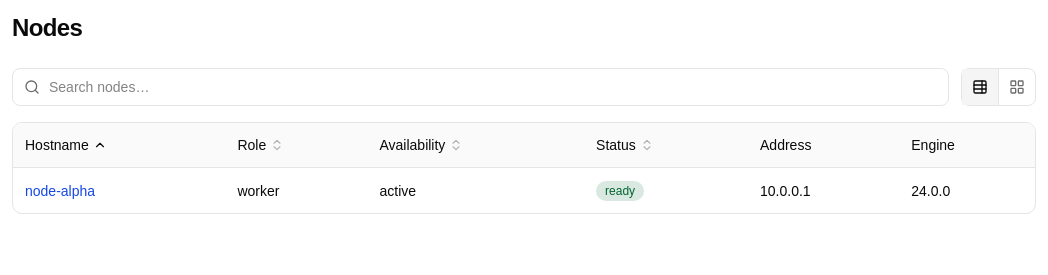
Test case: NodeList › shows search empty state
Expected: the link "node-alpha" is shown, [25,182,95,198]
Type "nonexistent" into the field with placeholder "Search nodes…" at {"x": 480, "y": 87}, box [12,68,949,106]
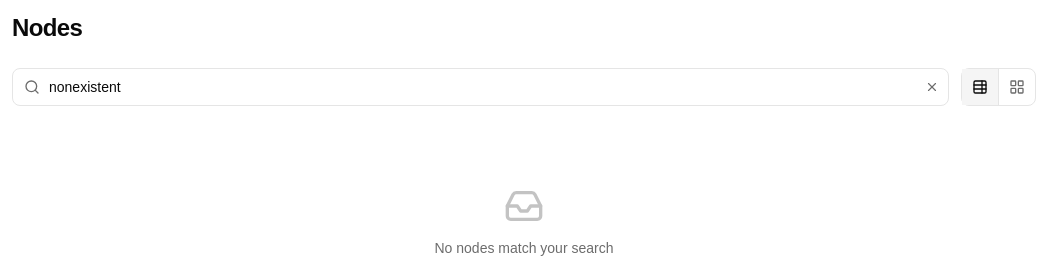
Expected: the text "No nodes match your search" is shown, [434,238,614,258]
